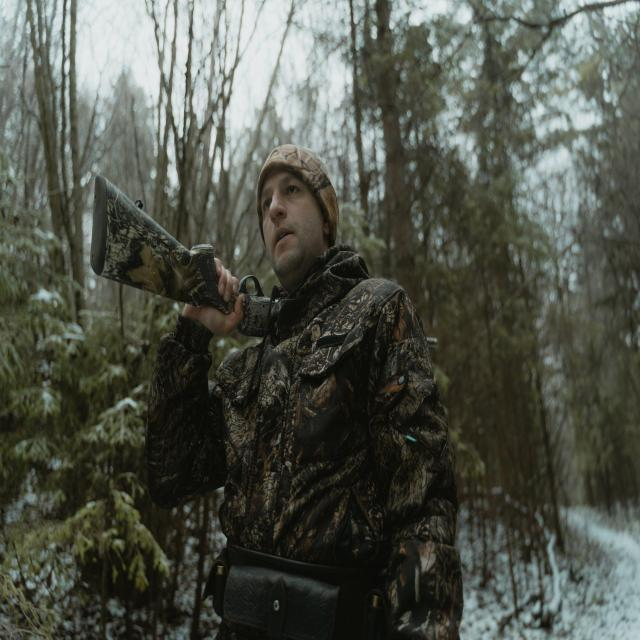weapon: (90, 174, 438, 351)
